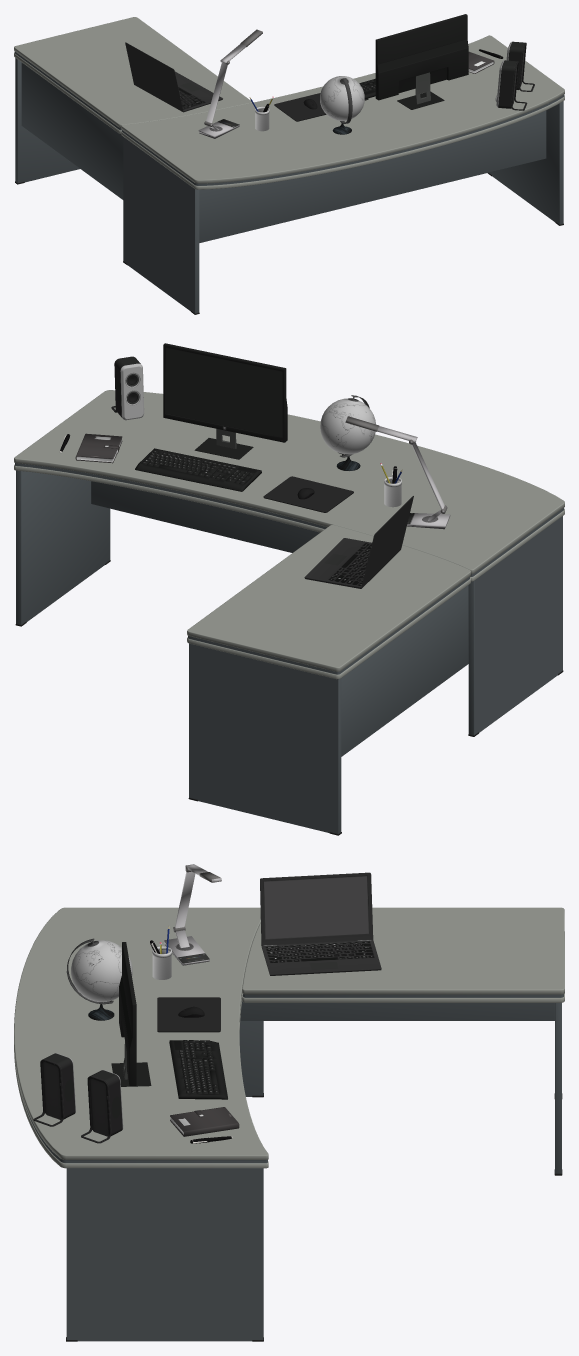
The model's file is bureauComplet.gltf.
The picture shows the model from 3 angles, top to bottom: view 1: azimuth 30°, elevation 25°; view 2: azimuth 150°, elevation 25°; view 3: azimuth 270°, elevation 25°; orthographic projection. The views are drawn at different scales.
Parts seen in each view (by area): view 1: ExecutiveDesk, SM_Monitor, SM_Laptop, Globe2, DeskLamp, PCSpeaker01Right, SM_Mousepad, PCSpeaker01Left, Notebook; view 2: ExecutiveDesk, SM_Monitor, SM_Laptop, SM_Keyboard, Globe2, SM_Mousepad, PCSpeaker01Left, DeskLamp, Notebook; view 3: ExecutiveDesk, SM_Laptop, Globe2, SM_Keyboard, SM_Monitor, PCSpeaker01Right, PCSpeaker01Left, SM_Mousepad, DeskLamp, Notebook, SM_PencilPot.
Part boxes in pixels (box(x1,y1,x2,y2)): ExecutiveDesk: box(14, 17, 564, 314); SM_Monitor: box(375, 14, 468, 109); SM_Laptop: box(125, 42, 222, 112); Globe2: box(320, 76, 364, 134); DeskLamp: box(198, 29, 262, 138); PCSpeaker01Right: box(495, 60, 527, 110); SM_Mousepad: box(274, 93, 326, 121); PCSpeaker01Left: box(506, 41, 534, 91); Notebook: box(468, 51, 494, 73); ExecutiveDesk: box(14, 390, 564, 835); SM_Monitor: box(163, 343, 287, 459); SM_Laptop: box(304, 496, 413, 588); SM_Keyboard: box(135, 448, 261, 491); Globe2: box(320, 395, 375, 470); SM_Mousepad: box(263, 476, 353, 512); PCSpeaker01Left: box(111, 356, 144, 420); DeskLamp: box(345, 416, 450, 529); Notebook: box(75, 433, 122, 463); ExecutiveDesk: box(14, 907, 564, 1341); SM_Laptop: box(260, 872, 381, 975); Globe2: box(66, 938, 132, 1020); SM_Keyboard: box(169, 1040, 227, 1099); SM_Monitor: box(111, 942, 151, 1086); PCSpeaker01Right: box(33, 1053, 75, 1126); PCSpeaker01Left: box(81, 1070, 123, 1143); SM_Mousepad: box(157, 997, 220, 1032); DeskLamp: box(164, 864, 221, 965); Notebook: box(170, 1107, 239, 1136); SM_PencilPot: box(152, 946, 171, 979).
Bounding box in the file's own units: 2 × 1.11 × 1.88.
